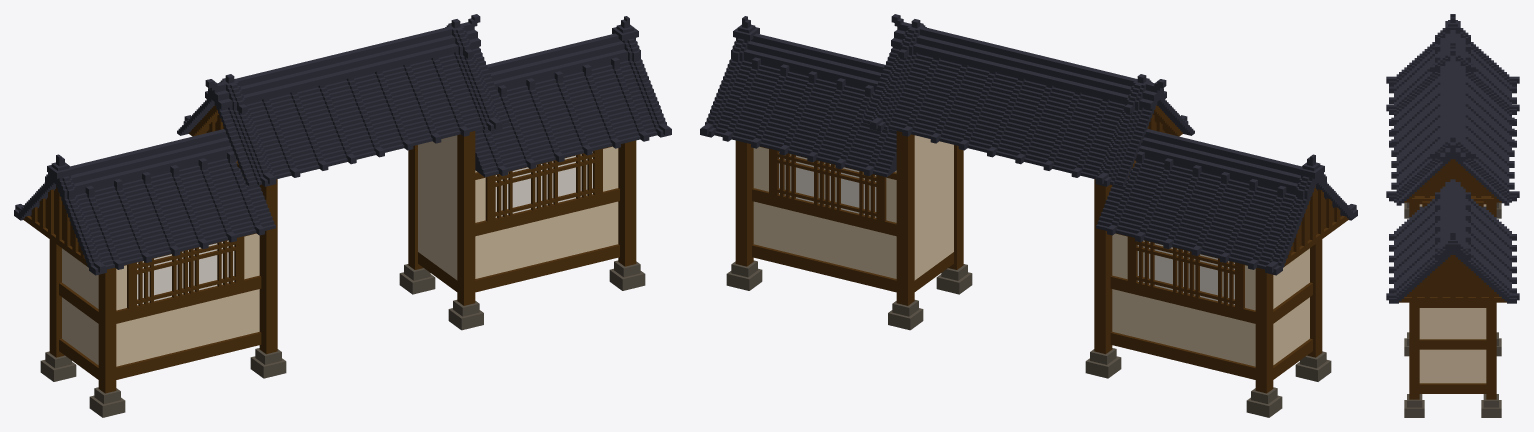
The model's file is Korean_door_03.FBX.
The picture shows the model from 3 angles, left to right: view 1: azimuth 30°, elevation 25°; view 2: azimuth 150°, elevation 25°; view 3: azimuth 270°, elevation 25°; orthographic projection. The views are drawn at different scales.
Visible parts, largest first — view 1: Voxel_Korean_traditional village-10; view 2: Voxel_Korean_traditional village-10; view 3: Voxel_Korean_traditional village-10.
Part boxes in pixels (x1,y1,x2,y2): Voxel_Korean_traditional village-10: (14,14,671,417); Voxel_Korean_traditional village-10: (700,14,1357,417); Voxel_Korean_traditional village-10: (1386,14,1519,417).
Size of the model in its own units: 206 by 94.98 by 51.99.
2 materials, 2 textured.
